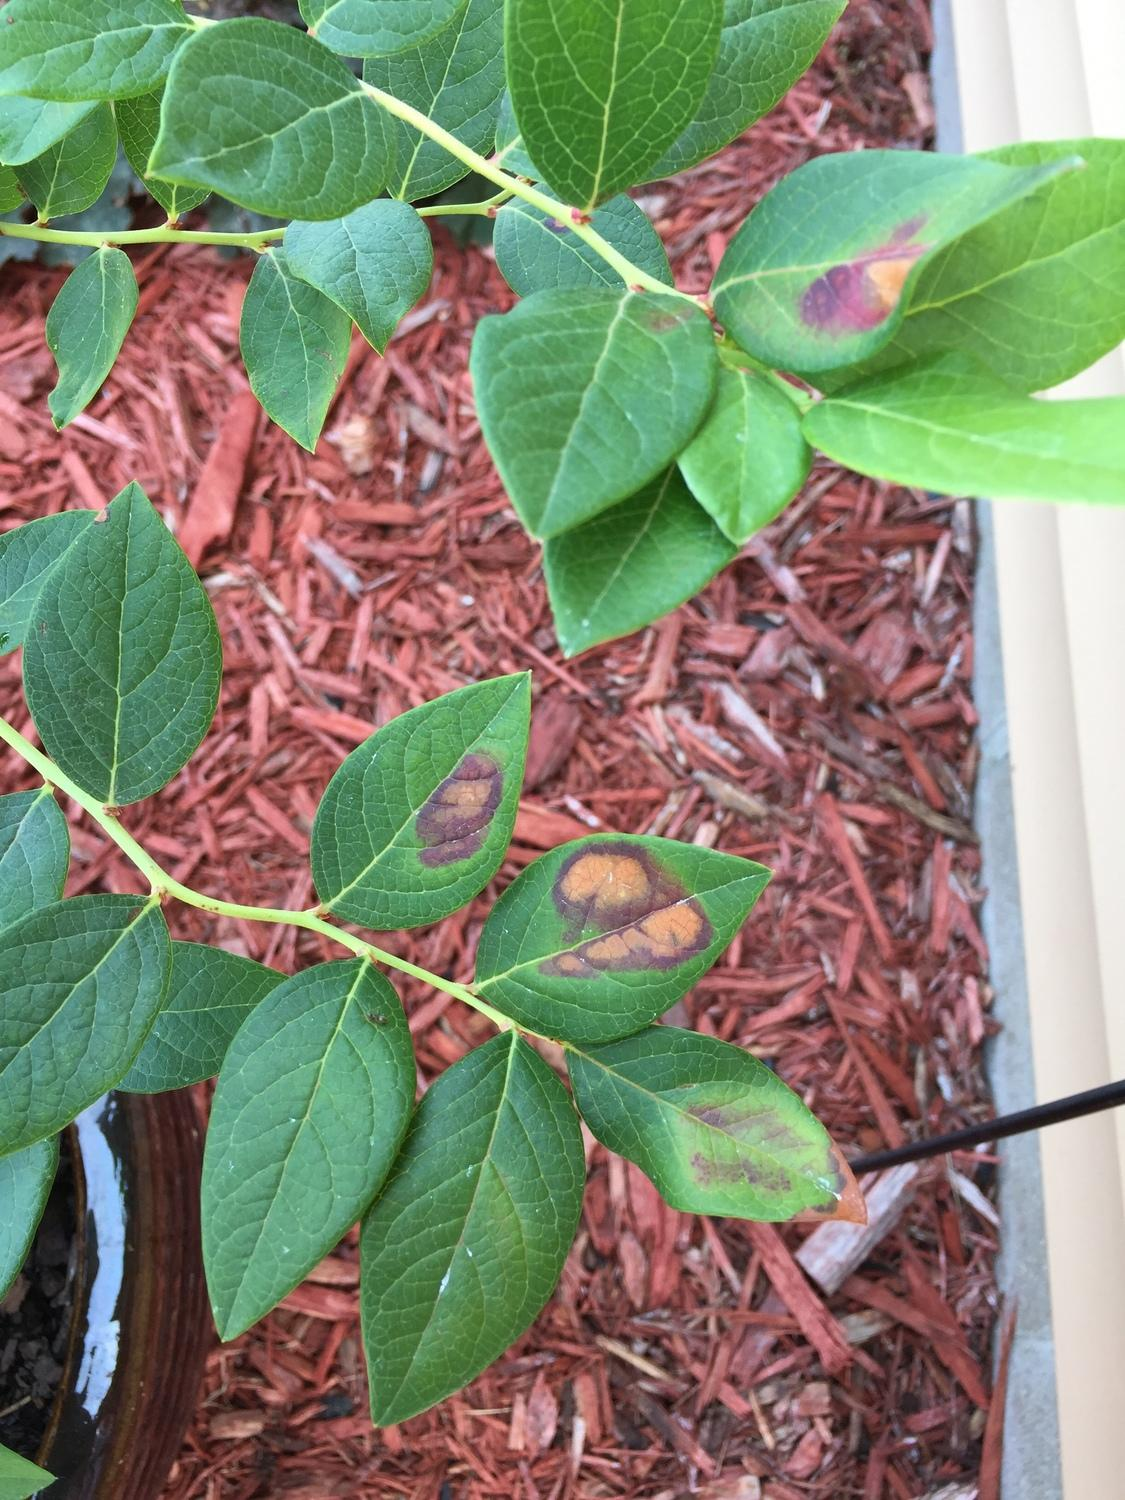Blueberry leaf: (347, 1011, 600, 1459), (203, 931, 414, 1414), (475, 239, 729, 580), (131, 14, 407, 244), (801, 347, 1125, 537), (228, 197, 457, 458), (30, 452, 195, 813), (1, 870, 197, 1167), (521, 1, 715, 244), (38, 221, 139, 444)
